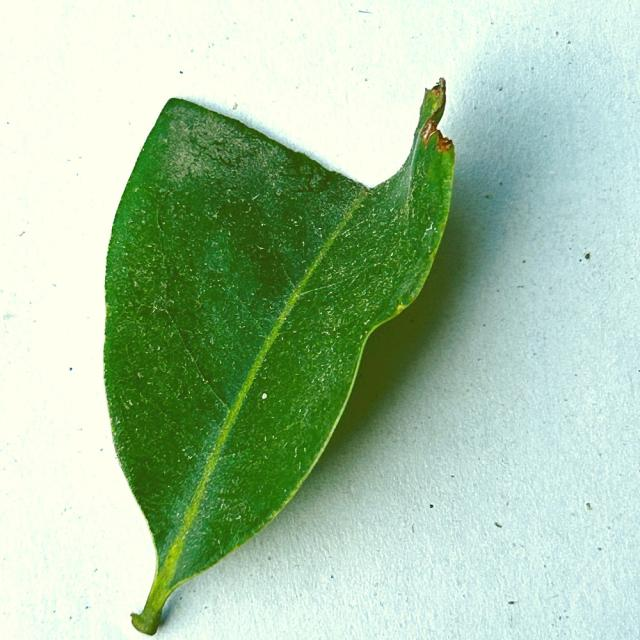Deficiency Leaf: (168, 45, 439, 186)
Lychee: (104, 79, 453, 634)
